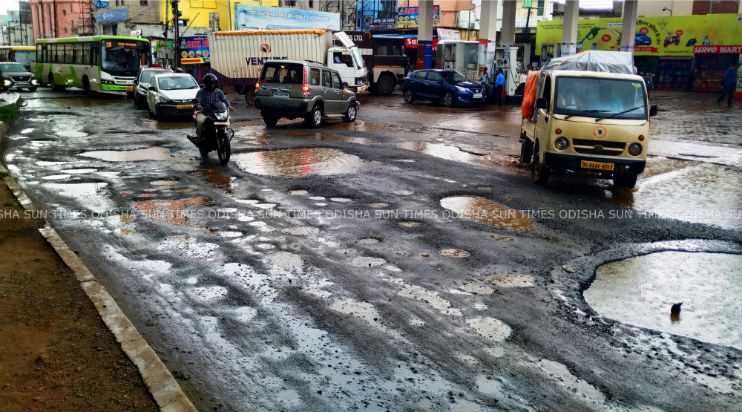pothole: (576, 239, 742, 352), (230, 145, 370, 181), (528, 354, 615, 408), (435, 189, 537, 235), (386, 136, 512, 173), (43, 176, 117, 213), (132, 192, 208, 224), (72, 142, 181, 163), (461, 308, 514, 346)
